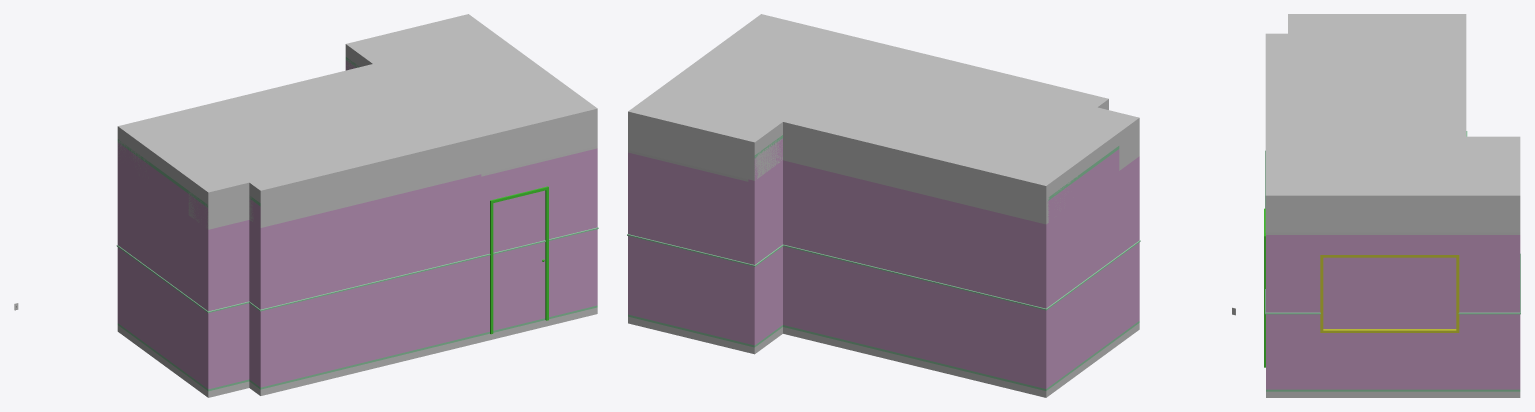
File: FloorPlan9_physics.fbx
3 views of the same model, side by side, from view 1: azimuth 30°, elevation 25°; view 2: azimuth 150°, elevation 25°; view 3: azimuth 270°, elevation 25° (orthographic). The views are drawn at different scales.
Visible parts, largest first — view 1: StandardWallSize, Ceiling, Floor, StandardDoorFrame1; view 2: StandardWallSize, Ceiling, Floor; view 3: Ceiling, StandardWallSize, Window, Floor, StandardDoorFrame1.
Part boxes in pixels (x1=…): StandardWallSize: x1=116, y1=57, x2=598, y2=391; Ceiling: x1=117, y1=14, x2=597, y2=229; Floor: x1=117, y1=307, x2=597, y2=397; StandardDoorFrame1: x1=490, y1=186, x2=548, y2=334; StandardWallSize: x1=627, y1=135, x2=1140, y2=390; Ceiling: x1=628, y1=14, x2=1139, y2=224; Floor: x1=628, y1=316, x2=1139, y2=397; Ceiling: x1=1265, y1=14, x2=1520, y2=234; StandardWallSize: x1=1265, y1=131, x2=1520, y2=391; Window: x1=1320, y1=255, x2=1459, y2=332; Floor: x1=1266, y1=391, x2=1520, y2=397; StandardDoorFrame1: x1=1264, y1=208, x2=1265, y2=367.
Size of the model in its own units: 829 by 312 by 358.
